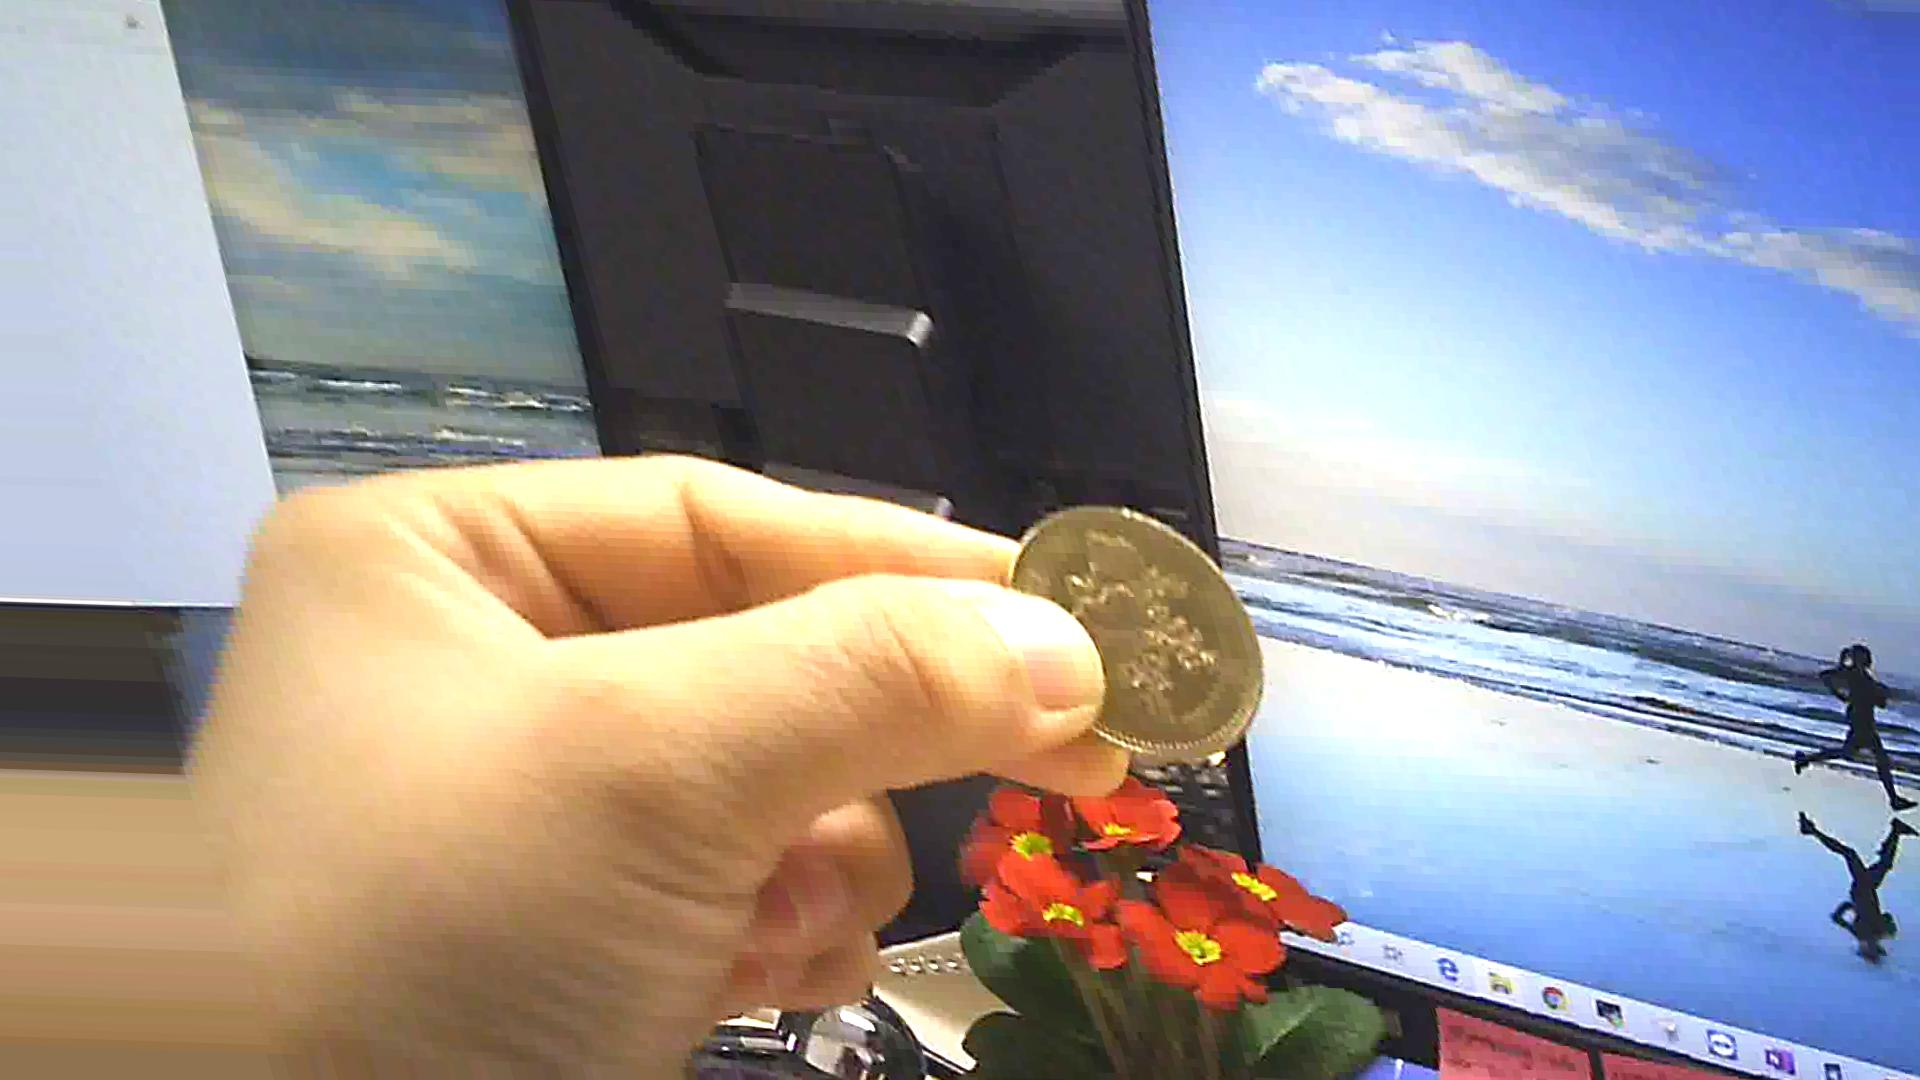500 Yen: (992, 508, 1273, 771)
